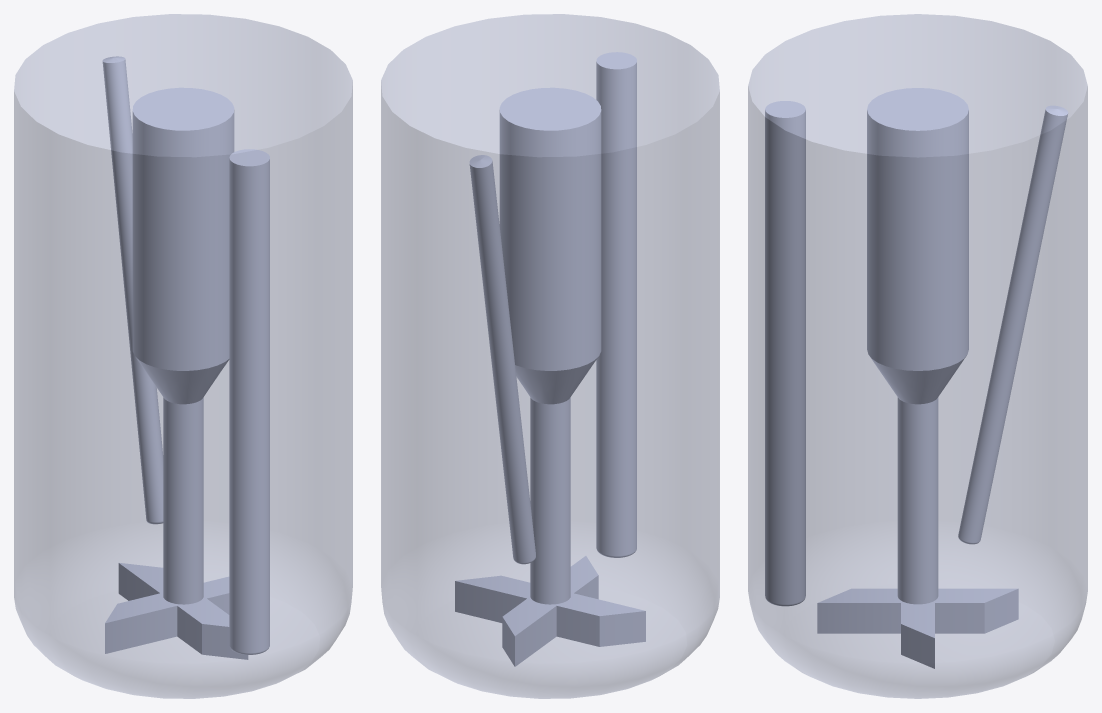
The picture shows the model from 3 angles, left to right: view 1: azimuth 30°, elevation 25°; view 2: azimuth 150°, elevation 25°; view 3: azimuth 270°, elevation 25°; orthographic projection.
Visible parts, largest first — view 1: Tank, EasyMax-Gassing Imp, Tube-Probe, Tr1; view 2: Tank, EasyMax-Gassing Imp, Tube-Probe, Tr1; view 3: Tank, EasyMax-Gassing Imp, Tube-Probe, Tr1.
Boxes of the visible parts, x1,y1,x2,y2 form: Tank: (14,14,352,698); EasyMax-Gassing Imp: (105,87,248,659); Tube-Probe: (229,149,269,654); Tr1: (102,56,163,524); Tank: (381,14,719,698); EasyMax-Gassing Imp: (455,87,645,666); Tube-Probe: (596,52,636,557); Tr1: (469,155,535,564); Tank: (748,14,1087,698); EasyMax-Gassing Imp: (817,88,1018,668); Tube-Probe: (765,101,805,606); Tr1: (958,105,1068,544).
Size of the model in its own units: 0.05 by 0.0938 by 0.05.
